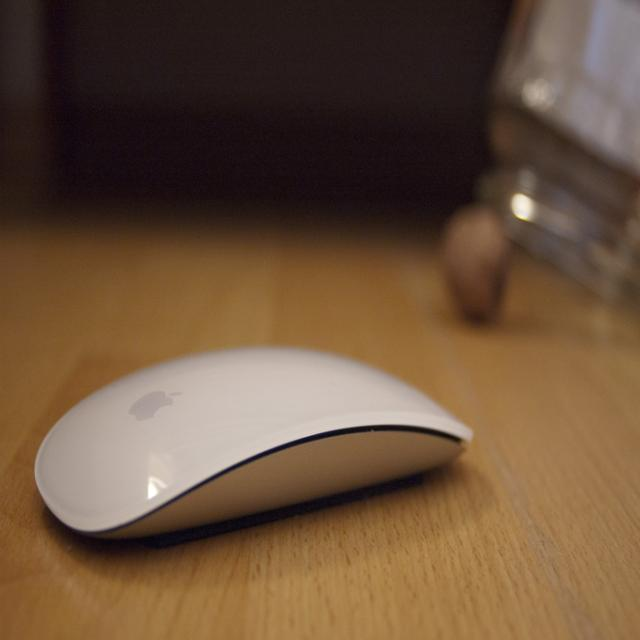Computer-mouse: (36, 339, 477, 544)
